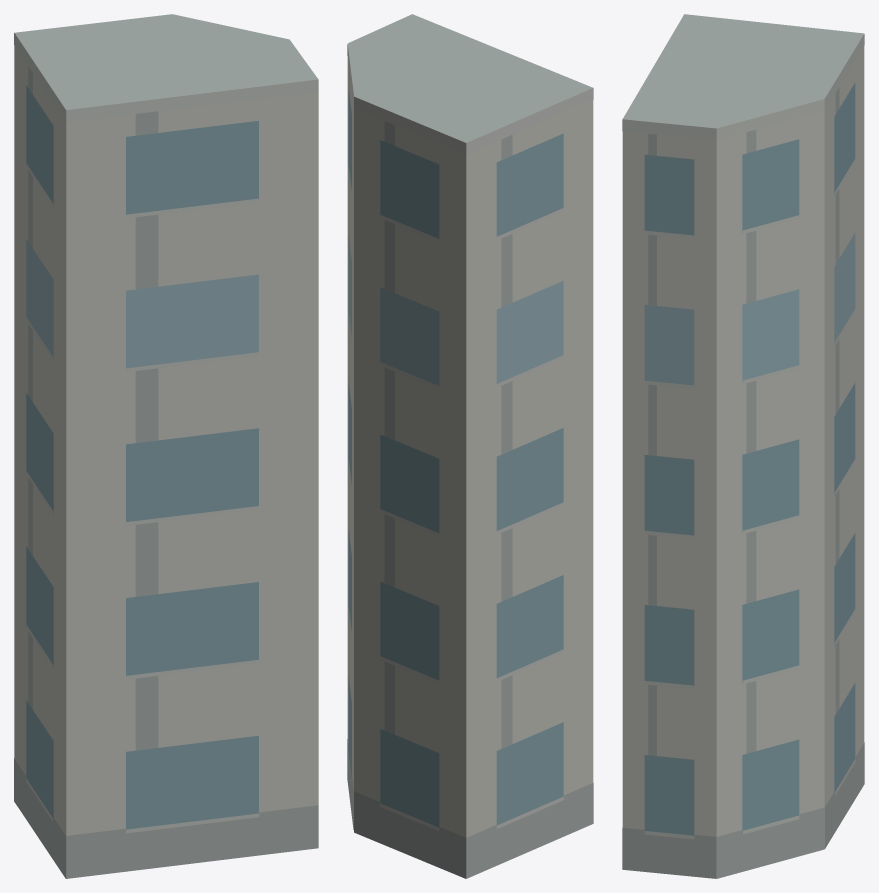
Rendered from survey-upis-32573945.glb.
3 renders of one model, left to right at view 1: azimuth 30°, elevation 25°; view 2: azimuth 150°, elevation 25°; view 3: azimuth 270°, elevation 25°, orthographic. The views are drawn at different scales.
Visible parts, largest first — view 1: survey-upis-32573945.tmp; view 2: survey-upis-32573945.tmp; view 3: survey-upis-32573945.tmp.
Boxes of the visible parts, x1,y1,x2,y2 form: survey-upis-32573945.tmp: [14, 14, 318, 878]; survey-upis-32573945.tmp: [347, 14, 593, 878]; survey-upis-32573945.tmp: [622, 14, 864, 878].
Size of the model in its own units: 5 by 15.25 by 4.47.
